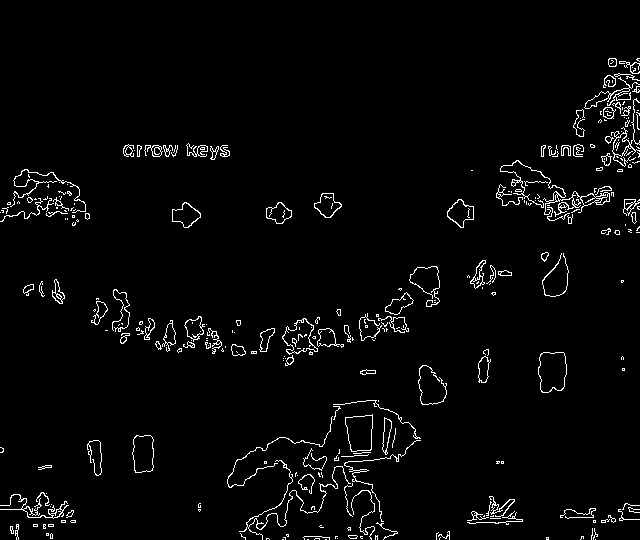down: (309, 187, 353, 226)
left: (438, 193, 481, 232)
right: (163, 196, 207, 232), (257, 196, 301, 230)
